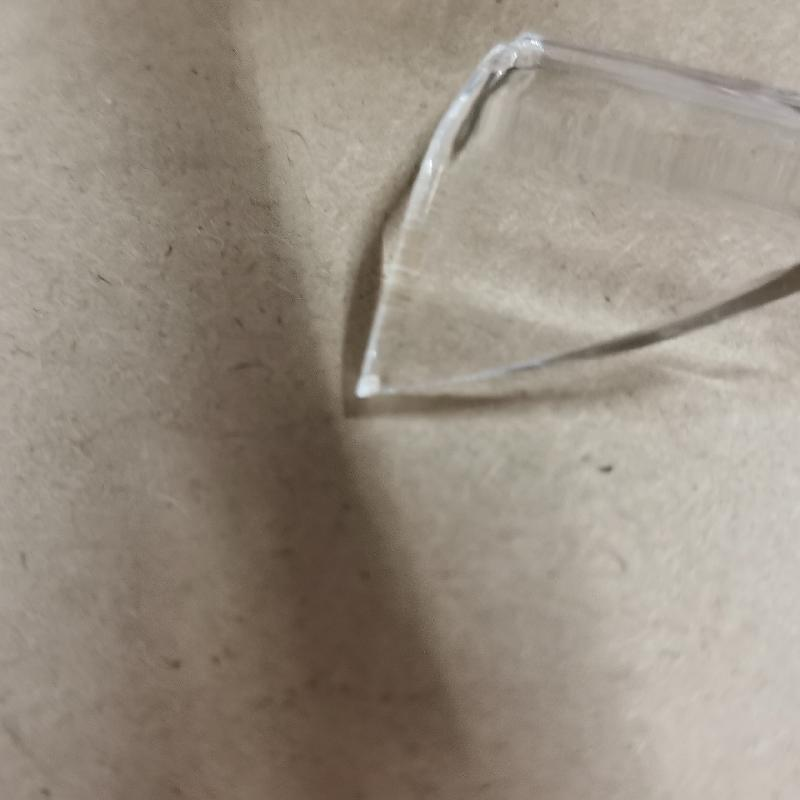glass: (352, 27, 800, 406)
